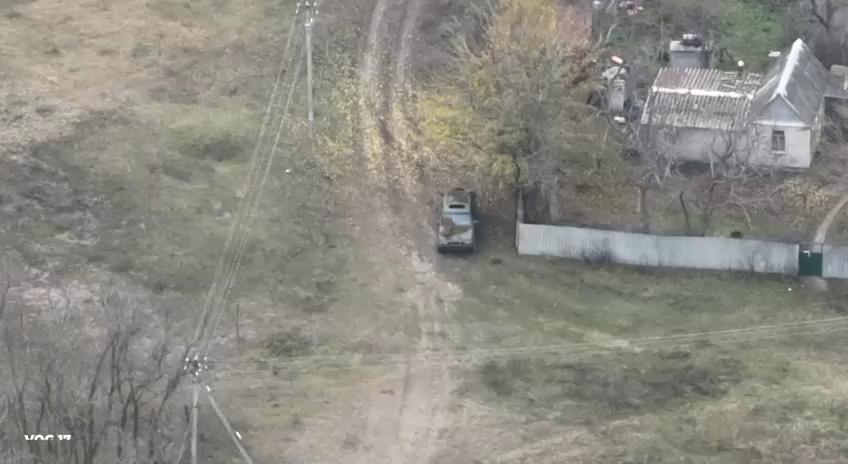vehicle: (434, 186, 476, 256)
